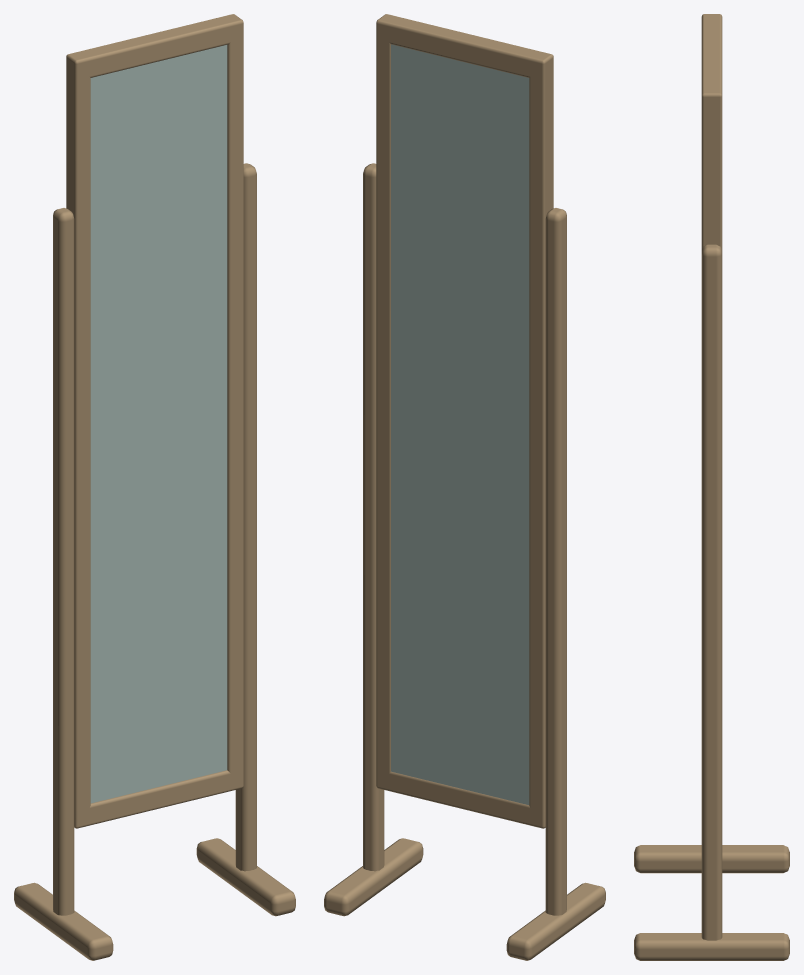
File: standmirror.glb
3 views of the same model, side by side, from view 1: azimuth 30°, elevation 25°; view 2: azimuth 150°, elevation 25°; view 3: azimuth 270°, elevation 25° (orthographic).
Parts seen in each view (by area): view 1: mirror-inset, swivel-upright--1, mirror-stile--1, mirror-stile-1, swivel-upright-1, mirror-rail-1, mirror-rail--1, grounded-foot--1, grounded-foot-1; view 2: mirror-inset, swivel-upright--1, mirror-stile--1, mirror-stile-1, swivel-upright-1, mirror-rail-1, mirror-rail--1, grounded-foot--1, grounded-foot-1; view 3: swivel-upright-1, grounded-foot-1, grounded-foot--1, mirror-stile-1, mirror-rail-1.
Part boxes in pixels (x1,y1,x2,y2): mirror-inset: [90, 45, 227, 803]; swivel-upright--1: [53, 208, 74, 915]; mirror-stile--1: [66, 51, 90, 828]; mirror-stile-1: [222, 14, 243, 790]; swivel-upright-1: [235, 163, 256, 871]; mirror-rail-1: [66, 14, 242, 78]; mirror-rail--1: [74, 770, 243, 827]; grounded-foot--1: [14, 882, 113, 960]; grounded-foot-1: [196, 838, 295, 916]; mirror-inset: [391, 44, 529, 804]; swivel-upright--1: [545, 208, 566, 915]; mirror-stile--1: [529, 51, 553, 828]; mirror-stile-1: [376, 14, 396, 790]; swivel-upright-1: [363, 163, 384, 871]; mirror-rail-1: [376, 14, 553, 79]; mirror-rail--1: [376, 771, 545, 827]; grounded-foot--1: [506, 882, 605, 960]; grounded-foot-1: [324, 838, 423, 916]; swivel-upright-1: [701, 244, 722, 940]; grounded-foot-1: [634, 933, 789, 960]; grounded-foot--1: [634, 845, 789, 873]; mirror-stile-1: [701, 87, 722, 250]; mirror-rail-1: [701, 14, 722, 112].
Size of the model in its own units: 0.455 by 1.83 by 0.3.
